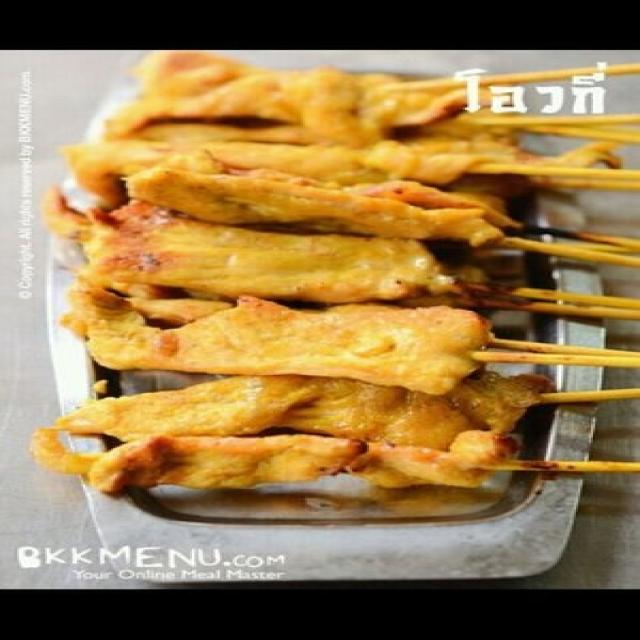牛肉菜式: (49, 48, 597, 532)
